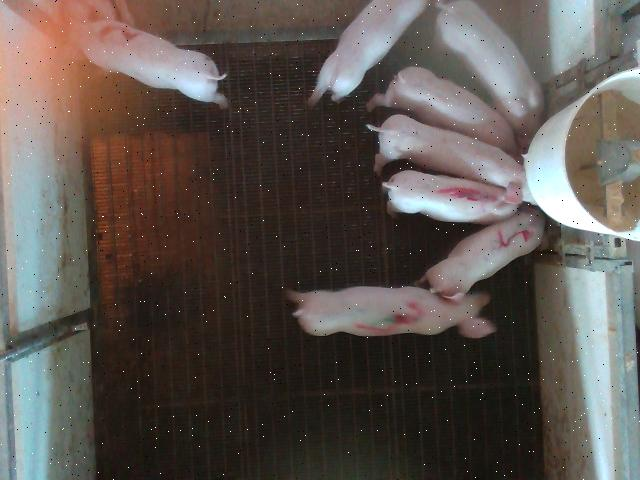pig-1: (382, 171, 522, 224)
pig-2: (80, 21, 228, 109)
pig-3: (286, 286, 495, 338)
pig-5: (420, 206, 549, 300)
